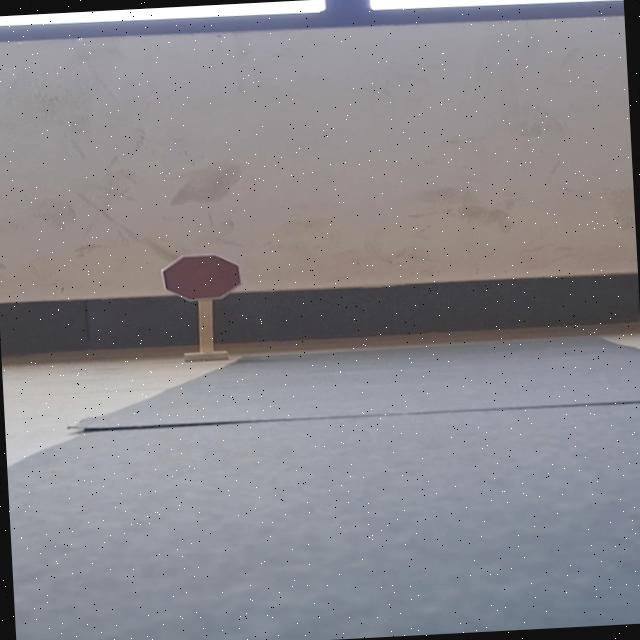Stop: (160, 251, 244, 303)
